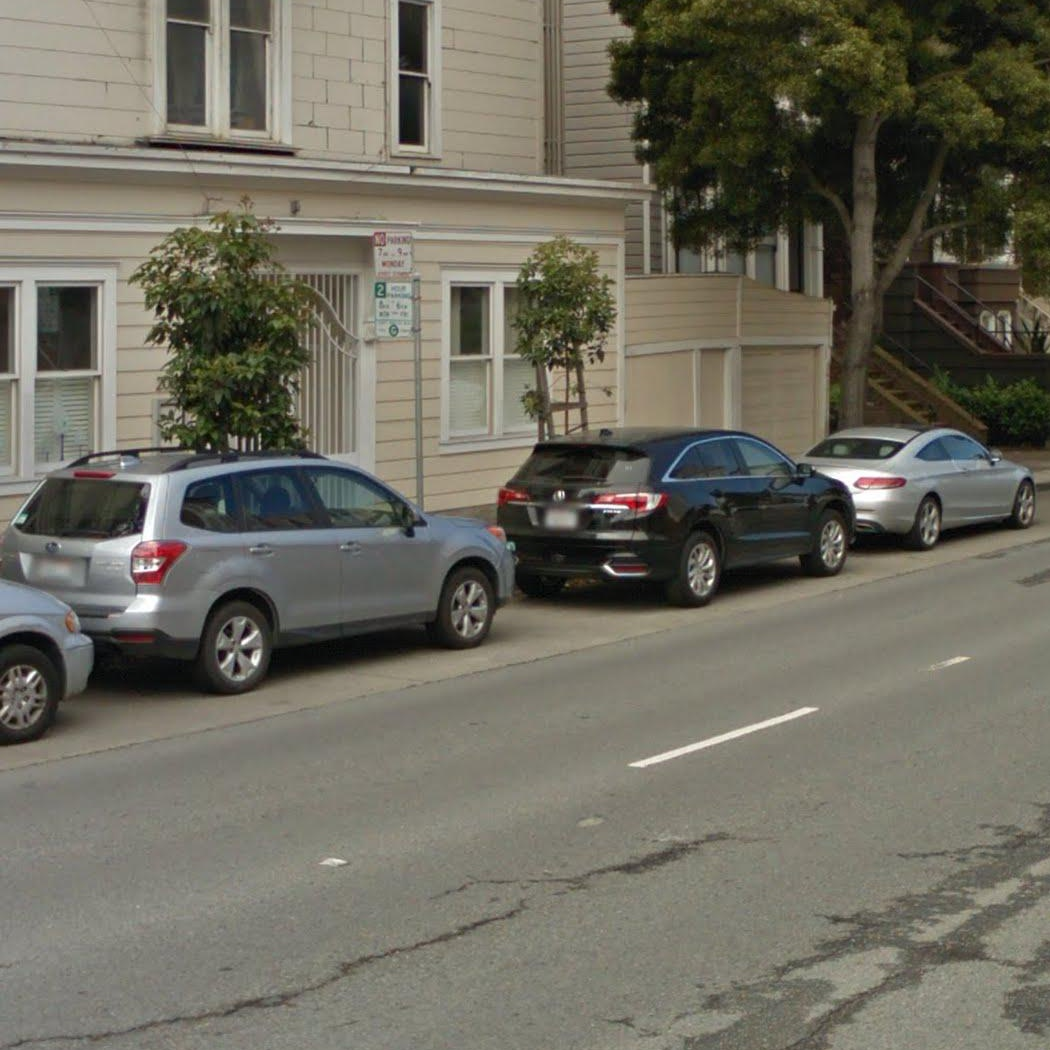2 Hour Parking: (373, 281, 416, 341)
No Parking: (373, 231, 413, 280)
